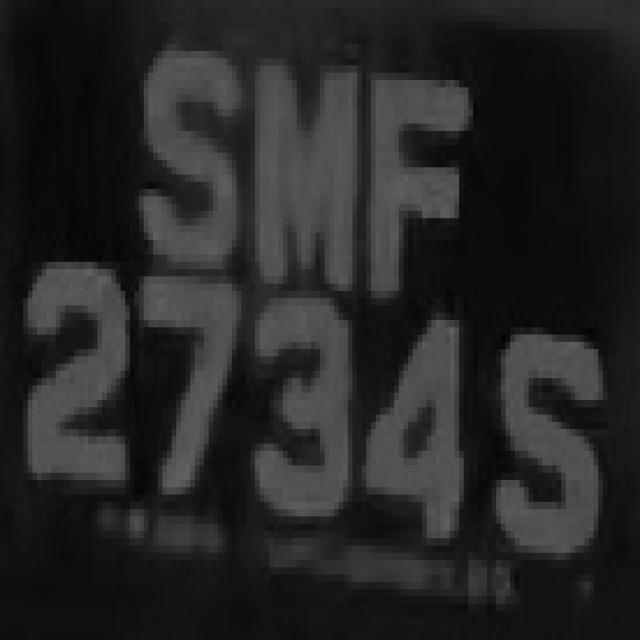2: (23, 232, 148, 524)
3: (246, 291, 362, 531)
4: (357, 291, 482, 567)
7: (134, 254, 246, 524)
F: (348, 65, 487, 313)
M: (246, 22, 366, 334)
S: (487, 276, 612, 582), (130, 15, 250, 298)
